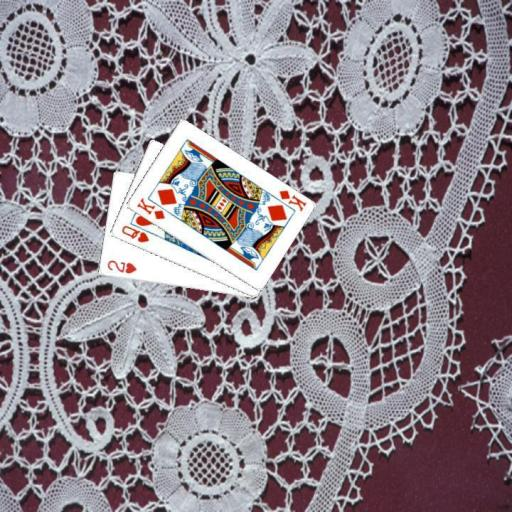card-corner: (133, 195, 166, 221), (275, 187, 308, 213), (118, 222, 150, 244), (104, 257, 138, 275)
